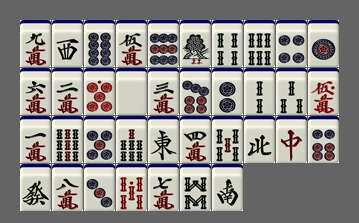0m: (308, 68, 339, 115)
0p: (84, 68, 115, 115)
0s: (116, 164, 147, 211)
1m: (20, 116, 51, 163)
1p: (308, 20, 339, 67)
1s: (180, 20, 211, 67)
1z: (148, 116, 179, 163)
2m: (52, 68, 83, 115)
2p: (212, 68, 243, 115)
2s: (244, 68, 275, 115)
2z: (212, 164, 243, 211)
3m: (148, 68, 179, 115)
3p: (84, 164, 115, 211)
3s: (276, 68, 307, 115)
3z: (52, 20, 83, 67)
4m: (180, 116, 211, 163)
4p: (276, 20, 307, 67)
4s: (212, 20, 243, 67)
4z: (244, 116, 275, 163)
5m: (116, 20, 147, 67)
5p: (84, 116, 115, 163)
5s: (212, 116, 243, 163)
5z: (116, 68, 147, 115)
6m: (20, 68, 51, 115)
6p: (308, 116, 339, 163)
6s: (244, 20, 275, 67)
6z: (20, 164, 51, 211)
7m: (148, 164, 179, 211)
7p: (180, 68, 211, 115)
7s: (116, 116, 147, 163)
7z: (276, 116, 307, 163)
8m: (52, 164, 83, 211)
8p: (84, 20, 115, 67)
8s: (180, 164, 211, 211)
9m: (20, 20, 51, 67)
9p: (148, 20, 179, 67)
9s: (52, 116, 83, 163)
